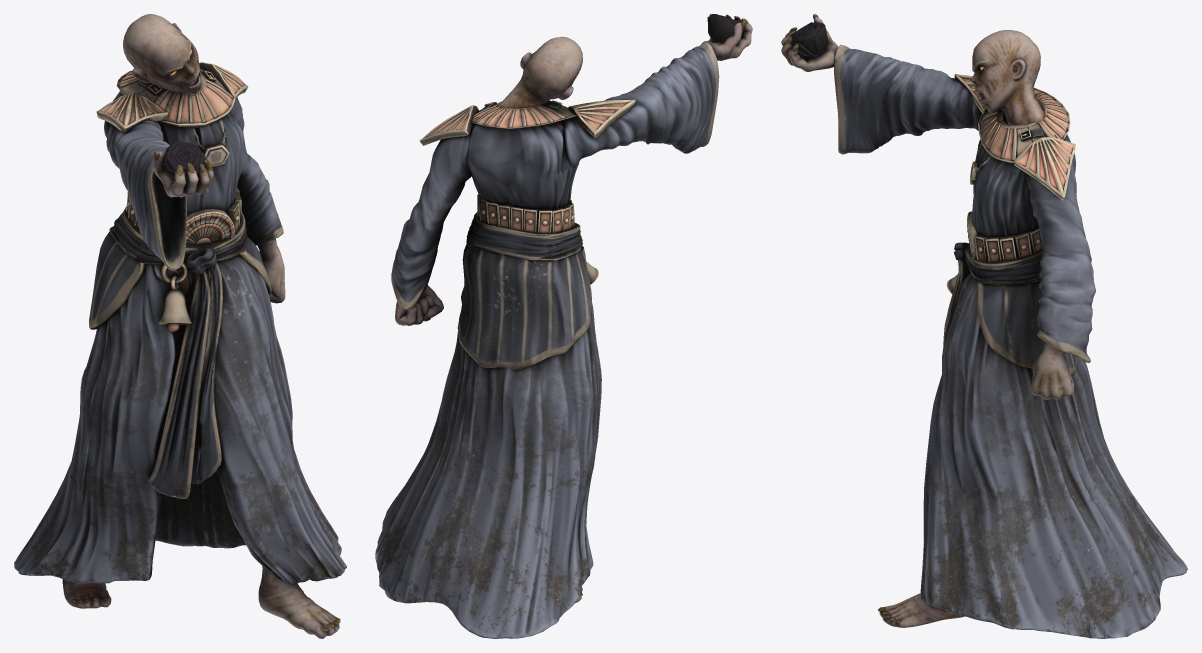
File: MZ4250 - Black Rose Bearer 4K.glb
3 renders of one model, left to right at view 1: azimuth 30°, elevation 25°; view 2: azimuth 150°, elevation 25°; view 3: azimuth 270°, elevation 25°, orthographic. The views are drawn at different scales.
Visible parts, largest first — view 1: Body.002; view 2: Body.002; view 3: Body.002.
Part boxes in pixels (bbox=[...]): Body.002: bbox=[14, 14, 346, 638]; Body.002: bbox=[375, 14, 752, 638]; Body.002: bbox=[781, 14, 1187, 638].
Size of the model in its own units: 43.91 by 86.85 by 58.59.
3 materials, 3 textured.
